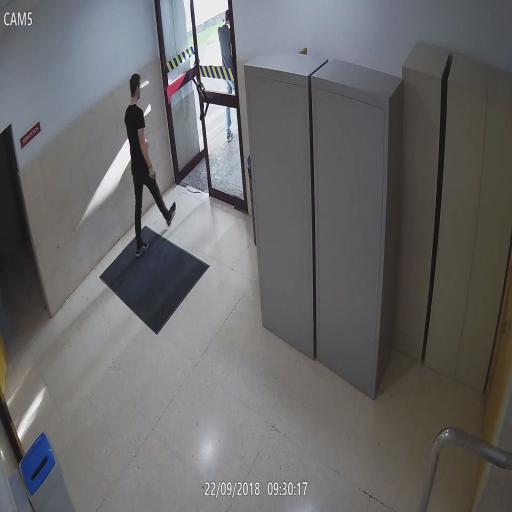Handgun: (148, 167, 158, 190)
